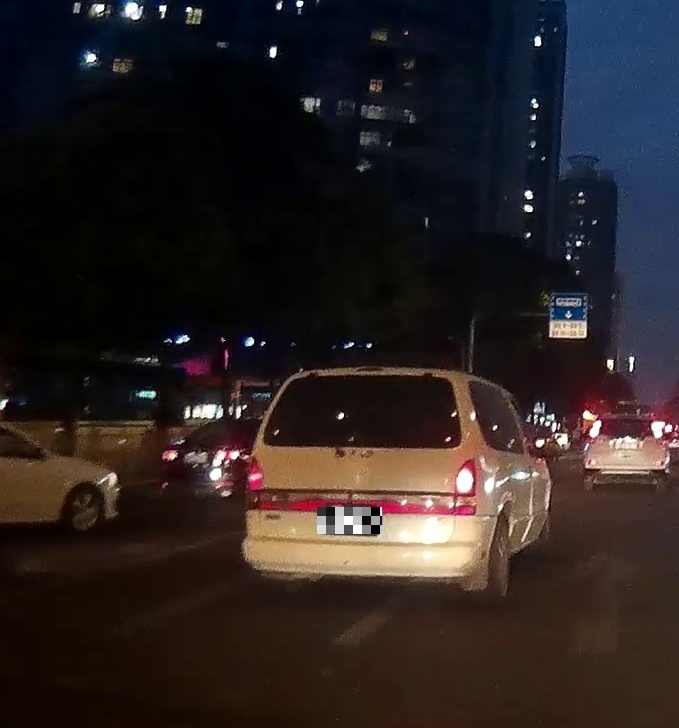L_light: (245, 457, 264, 510), (588, 420, 602, 438)
R_light: (450, 456, 478, 516), (651, 421, 663, 438)
T_light: (351, 375, 383, 384), (621, 419, 631, 422)
night-no: (582, 414, 669, 494)
night-right: (240, 367, 492, 608)
plate_1: (317, 507, 382, 534)
